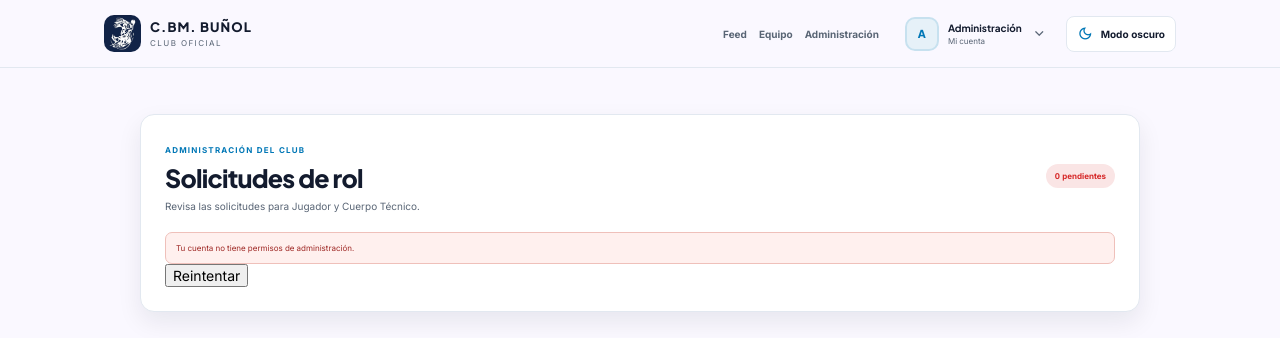
it: AdminRequestsPage › muestra acceso denegado y permite reintentar la carga
The image size is (1280, 338).
Expected: the message reads "Tu cuenta no tiene permisos de administración.", [176,243,354,253]
Click the button "Reintentar" at (207, 276), box [165,264,248,287]
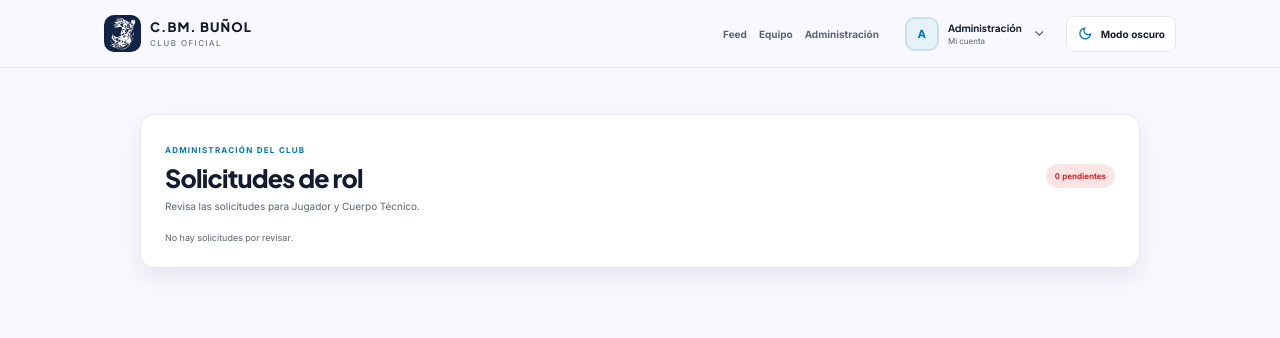
Expected: the text "No hay solicitudes por revisar." is shown, [165,232,293,243]
